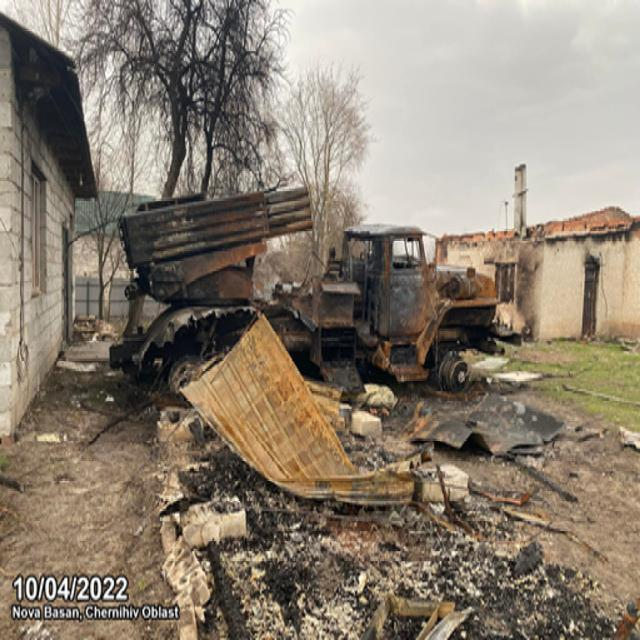MLRS: (110, 175, 500, 409)
